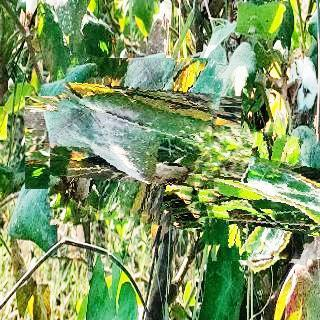blight: (50, 58, 217, 226)
curl: (203, 129, 320, 261)
